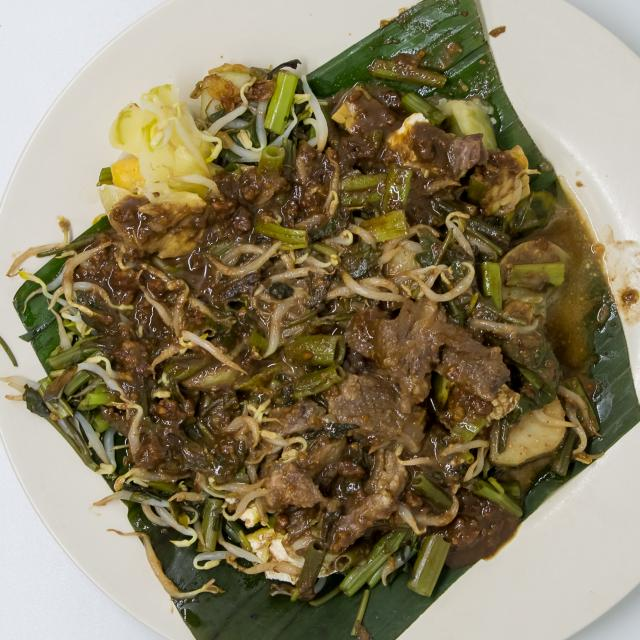Rujak-Cingur: (56, 52, 606, 594)
